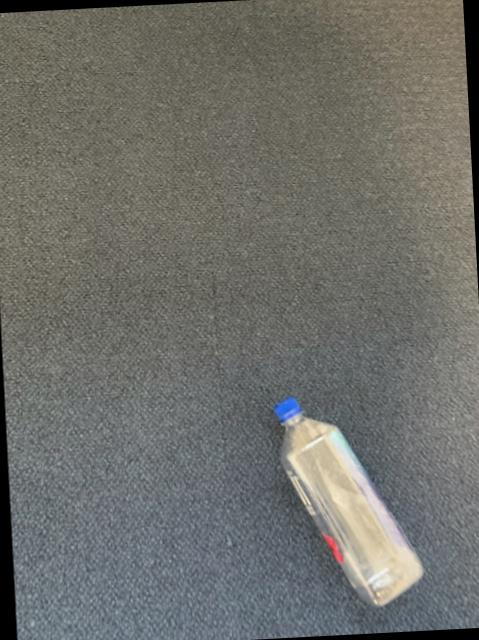plastic: (275, 398, 423, 606)
